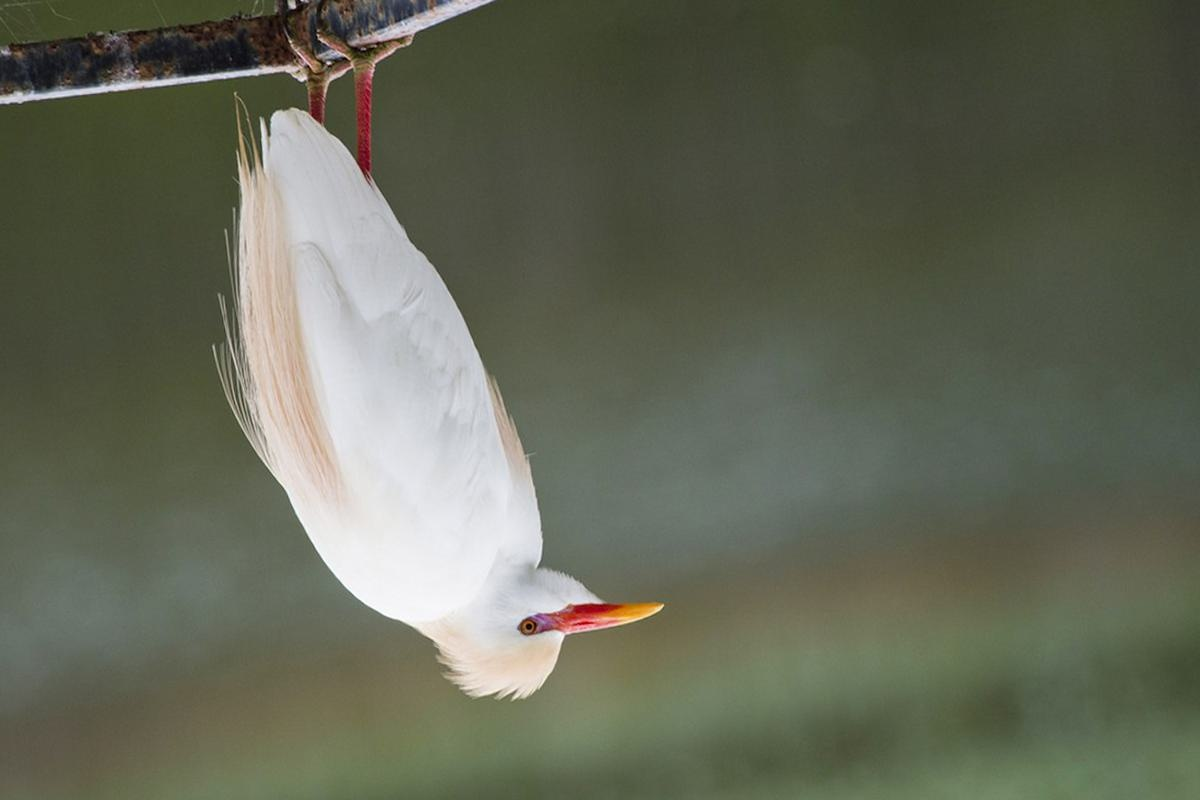egret: (195, 23, 670, 715)
